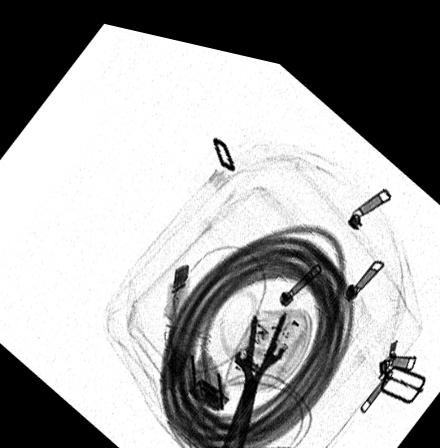Scissors: (213, 272, 312, 448)
